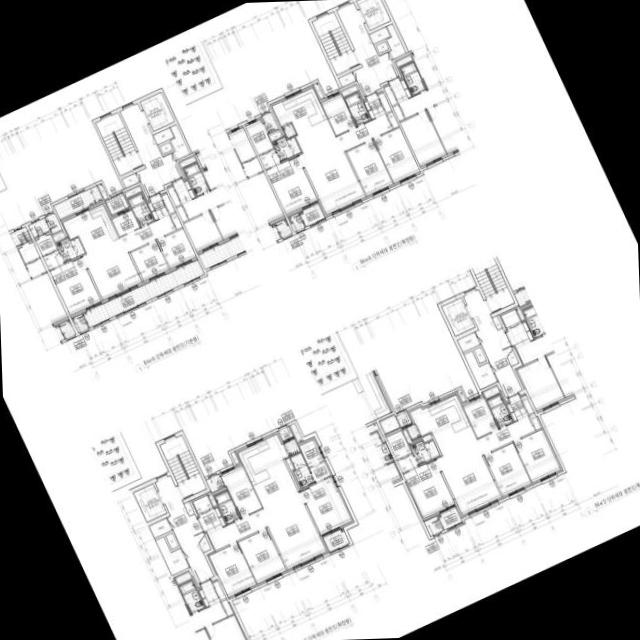background: (0, 0, 640, 640)
space_balconi: (83, 259, 204, 326), (53, 185, 102, 218), (323, 528, 349, 551), (437, 507, 462, 529), (299, 203, 324, 225), (105, 192, 128, 214), (28, 217, 49, 236)
space_bedroom: (300, 476, 351, 534), (403, 459, 454, 517), (266, 155, 317, 213), (49, 256, 100, 314), (208, 542, 256, 596), (238, 528, 285, 582), (346, 139, 392, 194), (373, 127, 419, 182), (513, 429, 560, 482), (484, 442, 531, 495), (221, 464, 261, 516), (130, 240, 169, 280), (157, 228, 195, 267), (462, 396, 498, 437), (320, 93, 355, 134)
space_dressroom: (245, 118, 280, 168), (385, 429, 417, 472), (299, 438, 330, 481), (35, 233, 63, 269)
space_elevator: (139, 91, 174, 130), (441, 297, 474, 335), (133, 483, 166, 521), (356, 0, 390, 29)
space_elevator_hall: (154, 475, 213, 582), (463, 289, 521, 396), (119, 103, 182, 196), (336, 1, 398, 95)
space_front: (146, 192, 174, 220), (197, 506, 226, 533), (363, 92, 391, 118), (506, 393, 528, 421)
space_kitchen: (237, 434, 298, 507), (409, 393, 477, 455), (272, 86, 335, 152), (62, 205, 118, 253)
space_living_room: (299, 110, 398, 214), (436, 415, 534, 514), (208, 492, 325, 568), (82, 212, 182, 299)
space_other: (463, 350, 497, 388), (155, 536, 188, 574), (111, 209, 139, 235), (386, 23, 405, 58), (170, 124, 189, 159), (285, 457, 300, 488), (149, 517, 171, 537), (457, 331, 479, 351), (192, 494, 212, 513), (423, 515, 442, 535), (152, 127, 173, 144), (205, 473, 224, 491), (369, 26, 389, 43), (45, 212, 61, 233), (261, 111, 277, 132), (380, 415, 399, 432), (402, 429, 421, 444), (338, 71, 355, 86), (121, 172, 138, 187), (520, 394, 533, 413), (284, 438, 299, 454), (290, 423, 302, 441), (473, 346, 486, 362), (406, 423, 419, 439), (165, 532, 178, 548), (529, 413, 541, 429), (124, 186, 141, 197), (282, 123, 295, 137), (199, 535, 210, 551), (507, 349, 518, 365), (341, 85, 357, 96), (97, 182, 107, 199), (484, 386, 499, 397), (159, 141, 172, 153), (376, 40, 388, 52), (492, 315, 502, 329), (183, 501, 193, 515), (52, 231, 65, 241), (269, 130, 281, 140), (207, 492, 216, 505), (230, 451, 239, 463), (457, 388, 465, 401), (422, 433, 431, 441)
space_outdoor_room: (287, 212, 304, 231), (71, 313, 88, 332), (395, 410, 411, 426), (278, 425, 292, 440)
space_staircase: (467, 248, 514, 312), (159, 434, 206, 497), (311, 11, 358, 74), (95, 112, 142, 175)
space_toilet: (213, 489, 239, 523), (127, 192, 153, 225), (290, 452, 314, 487), (487, 393, 512, 426), (344, 91, 369, 124), (410, 439, 439, 464), (55, 237, 84, 261), (272, 136, 300, 160)
